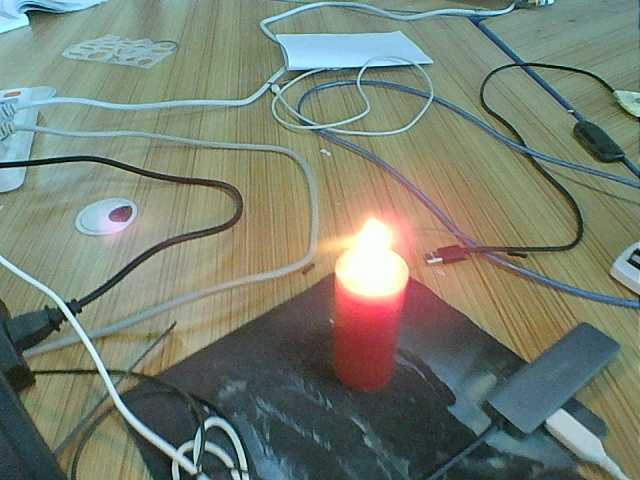candle: (327, 280, 409, 392)
fire: (346, 219, 401, 283)
